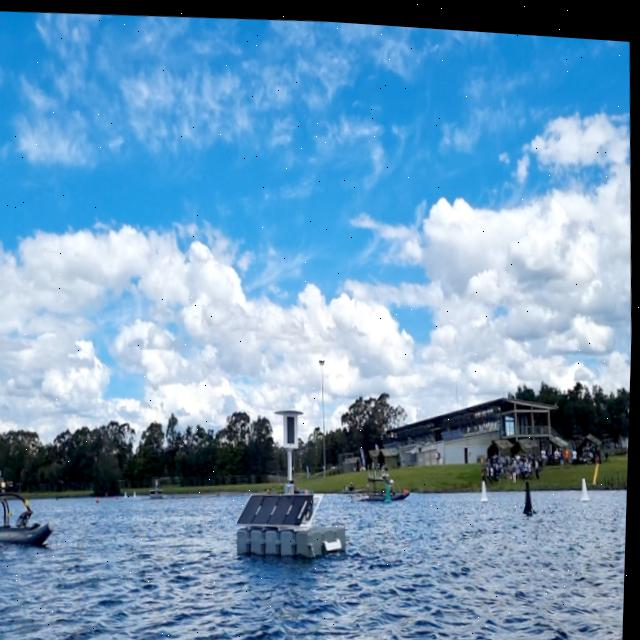led: (286, 409, 300, 442)
